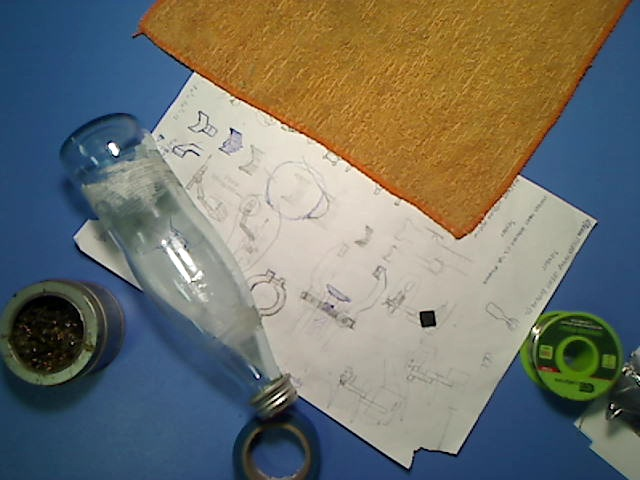bottle: (58, 112, 299, 421)
